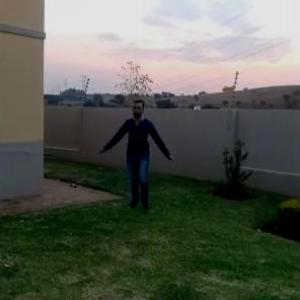land: (96, 96, 180, 217)
